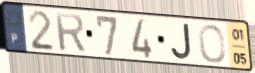2: (27, 8, 56, 52)
4: (129, 17, 154, 60)
7: (94, 13, 121, 58)
J: (169, 22, 193, 62)
O: (197, 23, 227, 65)
R: (52, 10, 88, 53)
